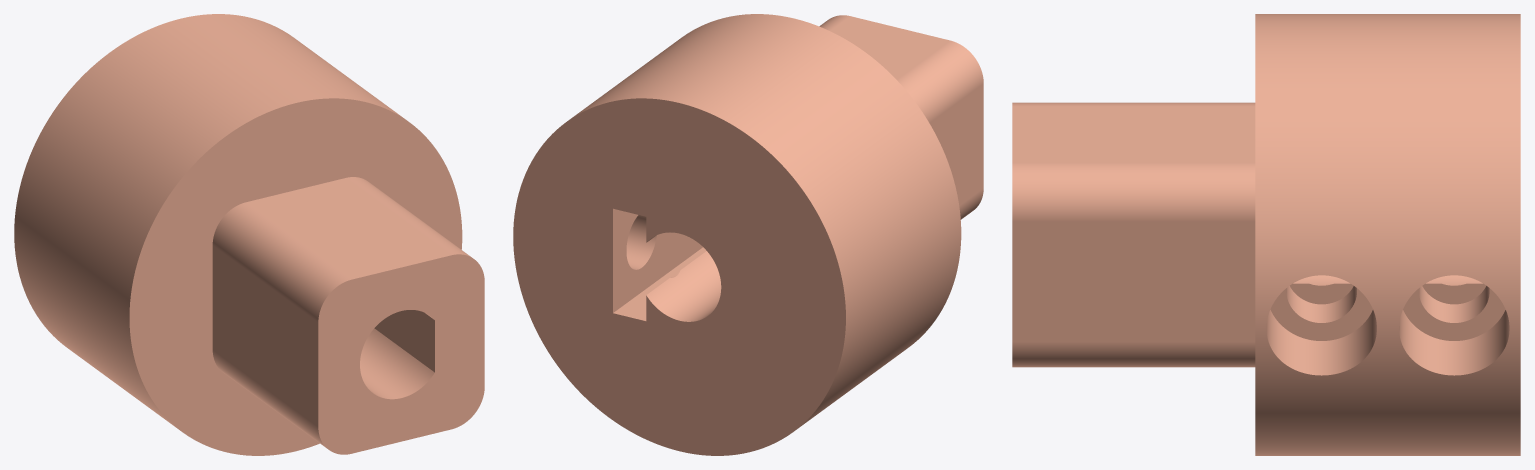
The model's file is cam_addapter.gltf.
3 views of the same model, side by side, from view 1: azimuth 30°, elevation 25°; view 2: azimuth 150°, elevation 25°; view 3: azimuth 270°, elevation 25° (orthographic). The views are drawn at different scales.
Parts seen in each view (by area): view 1: mesh1054, mesh1072, mesh1071, mesh1078, mesh1080, mesh1079, mesh1067, mesh1063, mesh1077, mesh1073; view 2: mesh1061, mesh1054, mesh1079, mesh1078, mesh1058, mesh1080, mesh1067, mesh1057, mesh1060; view 3: mesh1054, mesh1074, mesh1073, mesh1080, mesh1075, mesh1053, mesh1055, mesh1056, mesh1052, mesh1068, mesh1051, mesh1057 (+2 smaller).
Boxes of the visible parts, left/top/right/bottom form: mesh1054: left=14, top=14, right=404, bottom=428; mesh1072: left=129, top=98, right=462, bottom=455; mesh1071: left=318, top=254, right=484, bottom=454; mesh1078: left=212, top=245, right=318, bottom=426; mesh1080: left=246, top=178, right=450, bottom=279; mesh1079: left=212, top=202, right=350, bottom=321; mesh1067: left=360, top=313, right=434, bottom=399; mesh1063: left=374, top=310, right=434, bottom=372; mesh1077: left=212, top=350, right=325, bottom=447; mesh1073: left=346, top=177, right=471, bottom=257; mesh1061: left=513, top=98, right=845, bottom=455; mesh1054: left=571, top=14, right=961, bottom=428; mesh1079: left=897, top=40, right=983, bottom=122; mesh1078: left=929, top=84, right=983, bottom=205; mesh1058: left=613, top=208, right=702, bottom=312; mesh1080: left=830, top=16, right=949, bottom=79; mesh1067: left=646, top=236, right=721, bottom=321; mesh1057: left=626, top=215, right=656, bottom=269; mesh1060: left=613, top=247, right=706, bottom=320; mesh1054: left=1255, top=14, right=1520, bottom=455; mesh1074: left=1012, top=221, right=1255, bottom=341; mesh1073: left=1012, top=163, right=1255, bottom=221; mesh1080: left=1012, top=107, right=1255, bottom=162; mesh1075: left=1012, top=341, right=1255, bottom=367; mesh1053: left=1266, top=310, right=1376, bottom=375; mesh1055: left=1399, top=310, right=1509, bottom=375; mesh1056: left=1403, top=288, right=1505, bottom=340; mesh1052: left=1270, top=288, right=1372, bottom=340; mesh1068: left=1290, top=283, right=1486, bottom=304; mesh1051: left=1286, top=286, right=1356, bottom=322; mesh1057: left=1419, top=286, right=1489, bottom=322.
Bounding box in the file's own units: 0.02 × 0.02 × 0.023.
